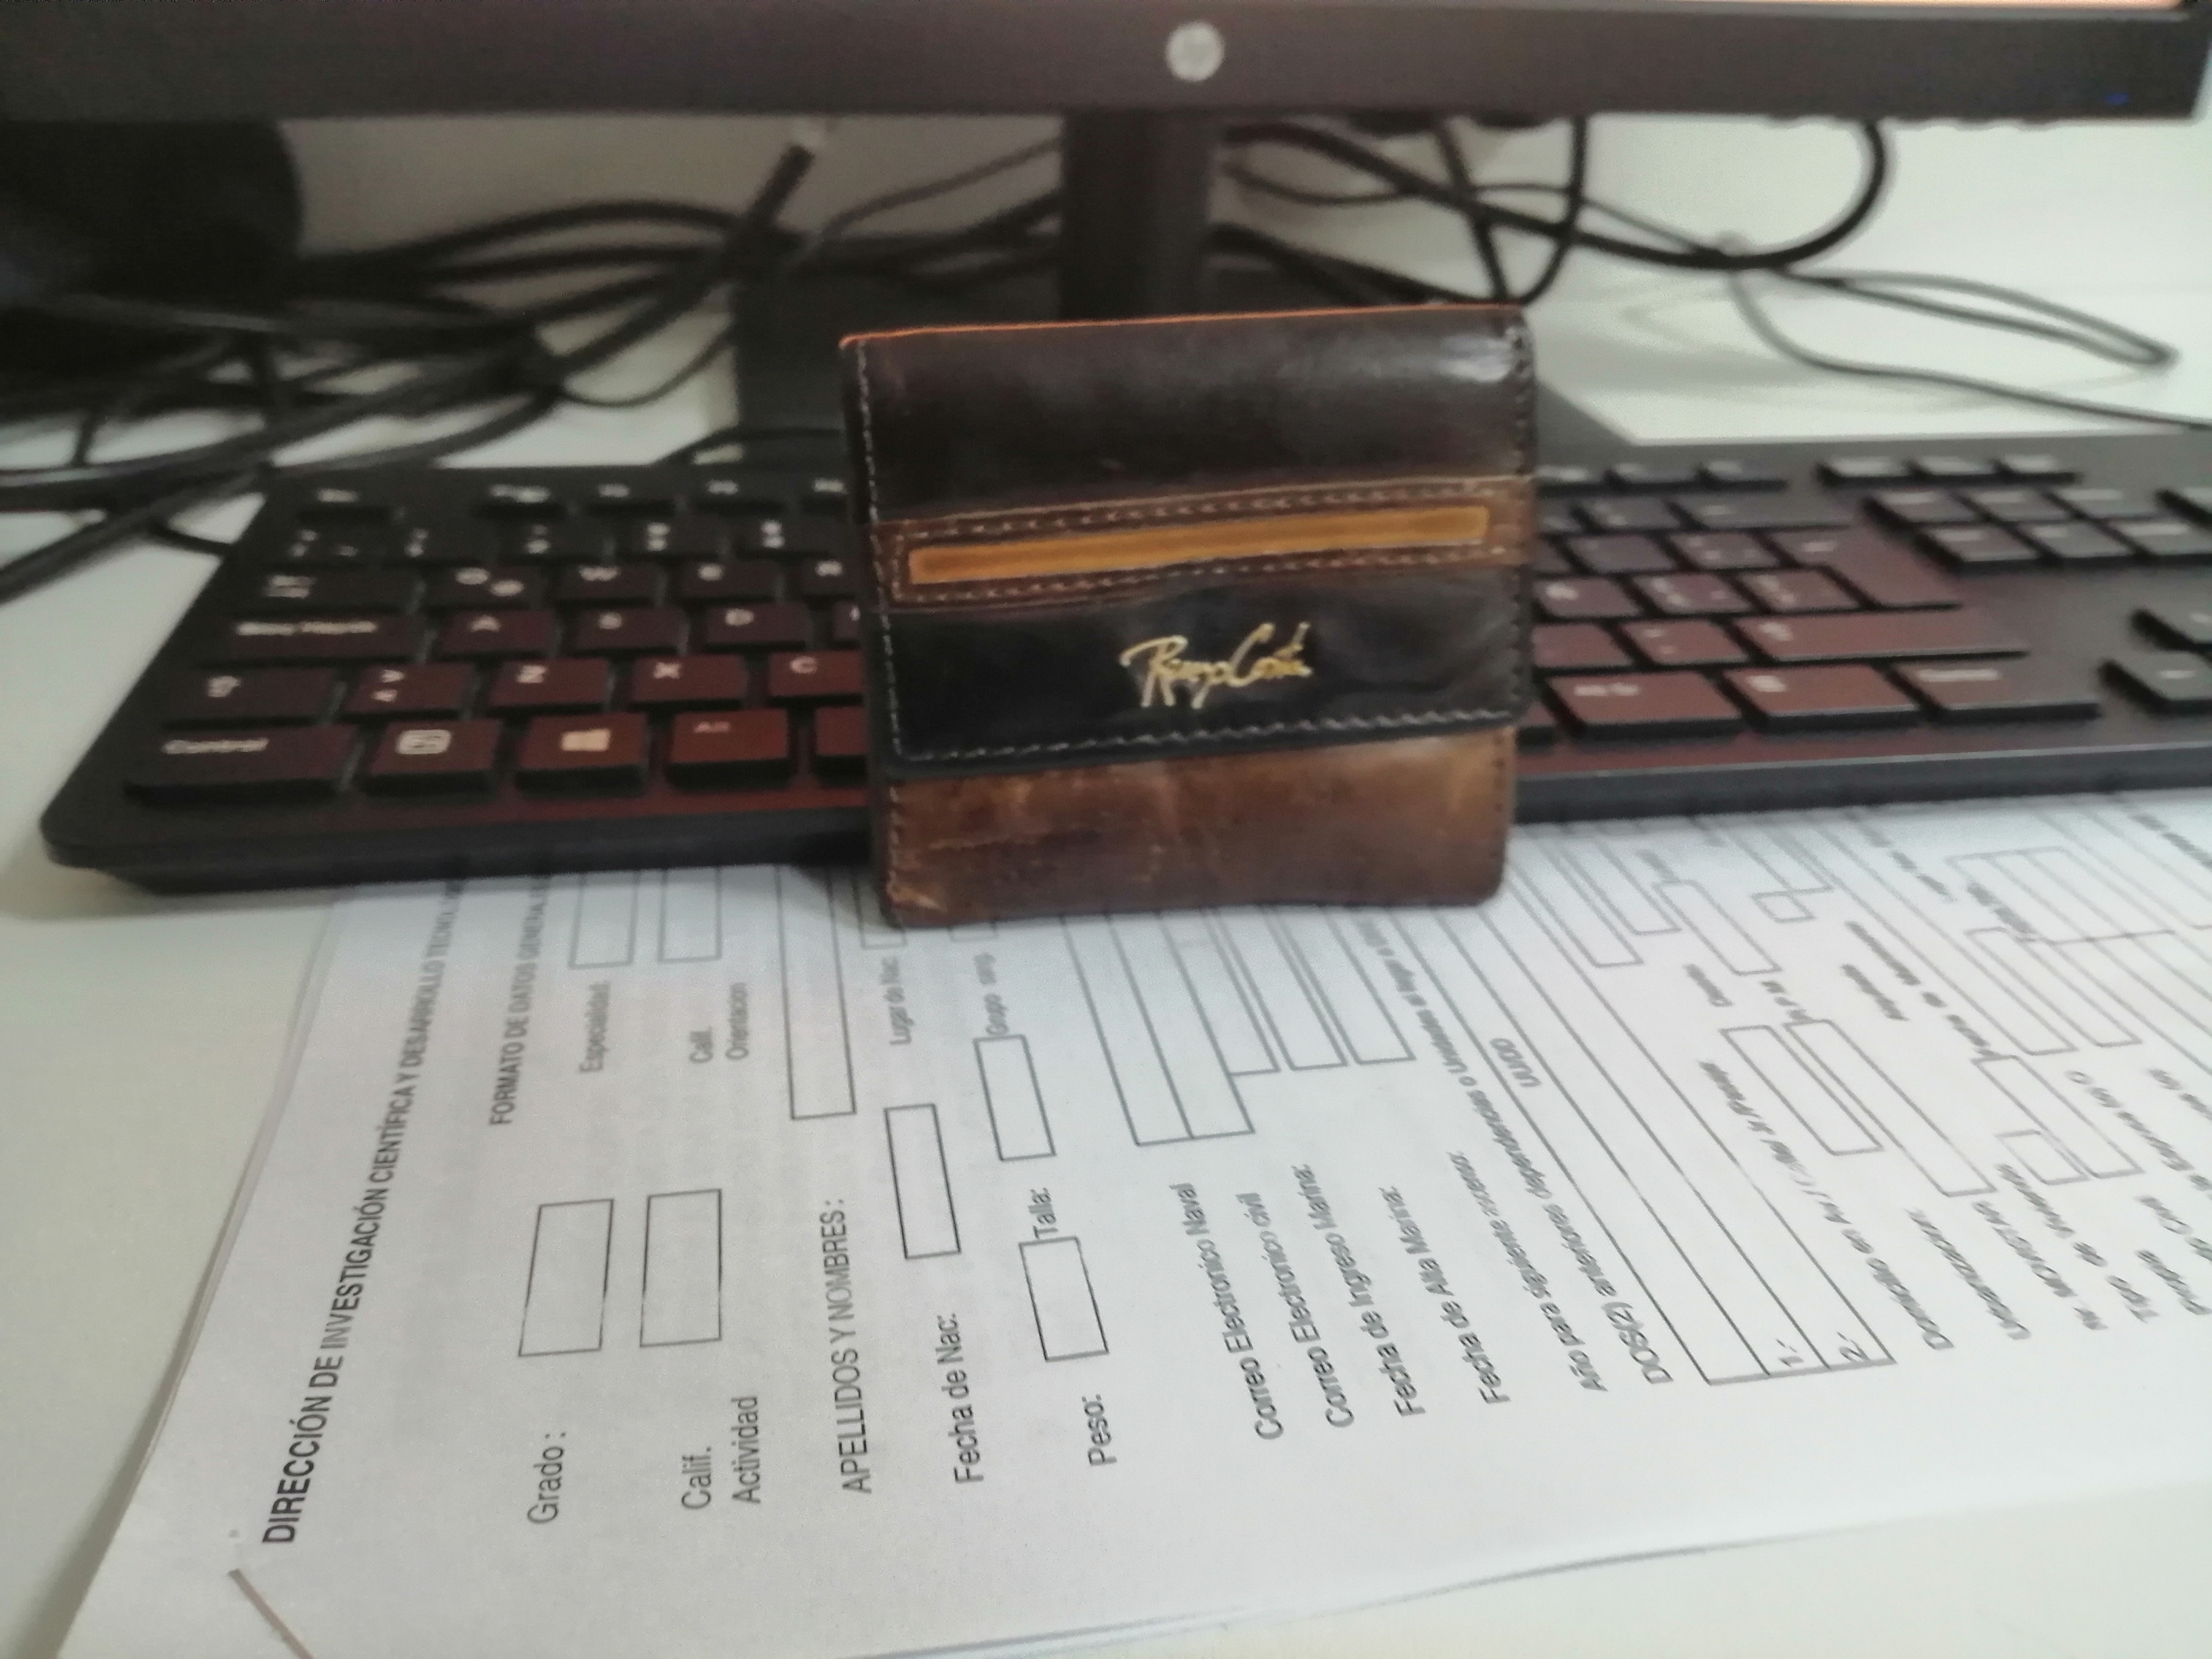monedero: (833, 293, 1545, 945)
